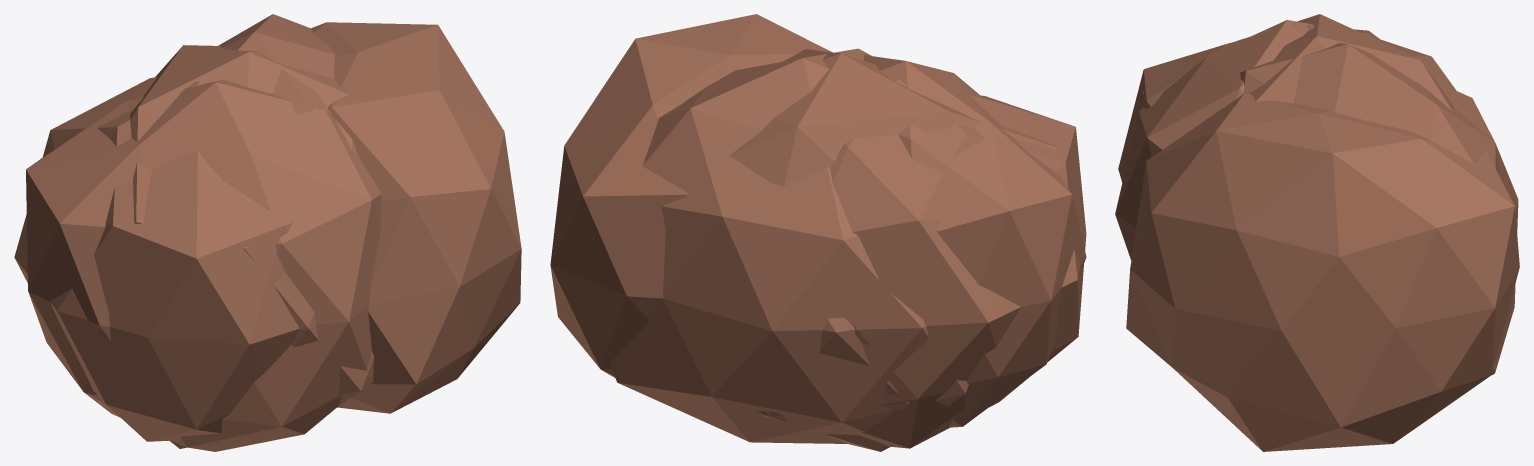
The model's file is OrePile.glb.
The picture shows the model from 3 angles, left to right: view 1: azimuth 30°, elevation 25°; view 2: azimuth 150°, elevation 25°; view 3: azimuth 270°, elevation 25°; orthographic projection. The views are drawn at different scales.
Parts seen in each view (by area): view 1: Stockpile.001, Stockpile.003, Stockpile.004, Stockpile.002, Stockpile; view 2: Stockpile, Stockpile.003, Stockpile.004, Stockpile.001, Stockpile.002; view 3: Stockpile.003, Stockpile, Stockpile.001, Stockpile.002, Stockpile.004.
Boxes of the visible parts, x1=… form: Stockpile.001: x1=26, y1=79, x2=381, y2=451; Stockpile.003: x1=311, y1=22, x2=521, y2=413; Stockpile.004: x1=14, y1=77, x2=299, y2=441; Stockpile.002: x1=130, y1=45, x2=374, y2=448; Stockpile: x1=218, y1=14, x2=335, y2=114; Stockpile: x1=609, y1=48, x2=968, y2=443; Stockpile.003: x1=550, y1=14, x2=832, y2=377; Stockpile.004: x1=830, y1=79, x2=1086, y2=448; Stockpile.001: x1=863, y1=55, x2=1086, y2=427; Stockpile.002: x1=666, y1=49, x2=1057, y2=451; Stockpile.003: x1=1126, y1=93, x2=1519, y2=451; Stockpile: x1=1240, y1=43, x2=1518, y2=374; Stockpile.001: x1=1115, y1=20, x2=1379, y2=260; Stockpile.002: x1=1139, y1=14, x2=1481, y2=158; Stockpile.004: x1=1118, y1=25, x2=1456, y2=182.
Bounding box in the file's own units: 7.72 × 6.08 × 6.13.
